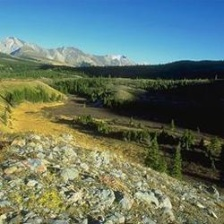neutral: (1, 4, 220, 224)
